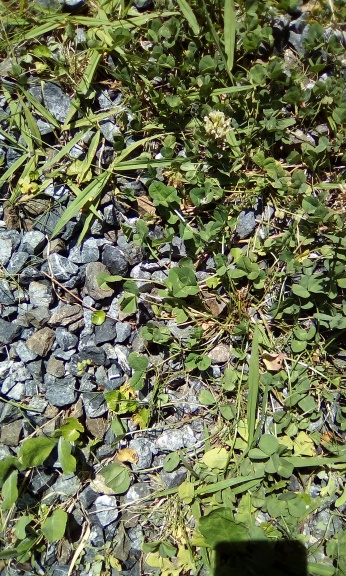4leaf: (167, 266, 199, 299)
